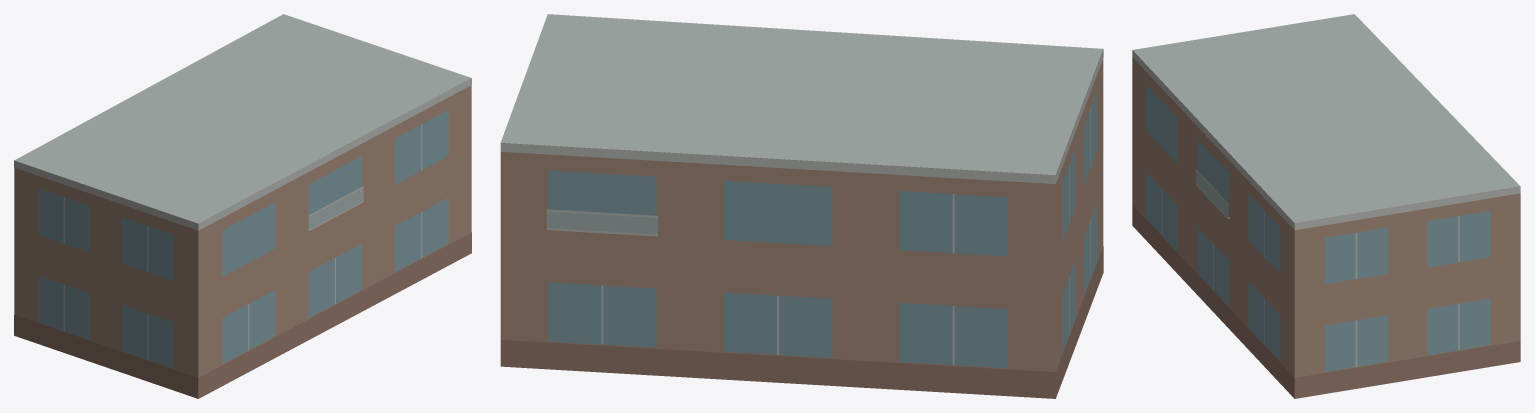
File: survey-upis-32854551.glb
3 renders of one model, left to right at view 1: azimuth 30°, elevation 25°; view 2: azimuth 150°, elevation 25°; view 3: azimuth 270°, elevation 25°, orthographic. The views are drawn at different scales.
Visible parts, largest first — view 1: survey-upis-32854551.tmp; view 2: survey-upis-32854551.tmp; view 3: survey-upis-32854551.tmp.
Boxes of the visible parts, x1,y1,x2,y2 form: survey-upis-32854551.tmp: [14, 14, 471, 398]; survey-upis-32854551.tmp: [500, 14, 1103, 398]; survey-upis-32854551.tmp: [1132, 14, 1520, 398].
Size of the model in its own units: 15.6 by 6.1 by 12.23.
